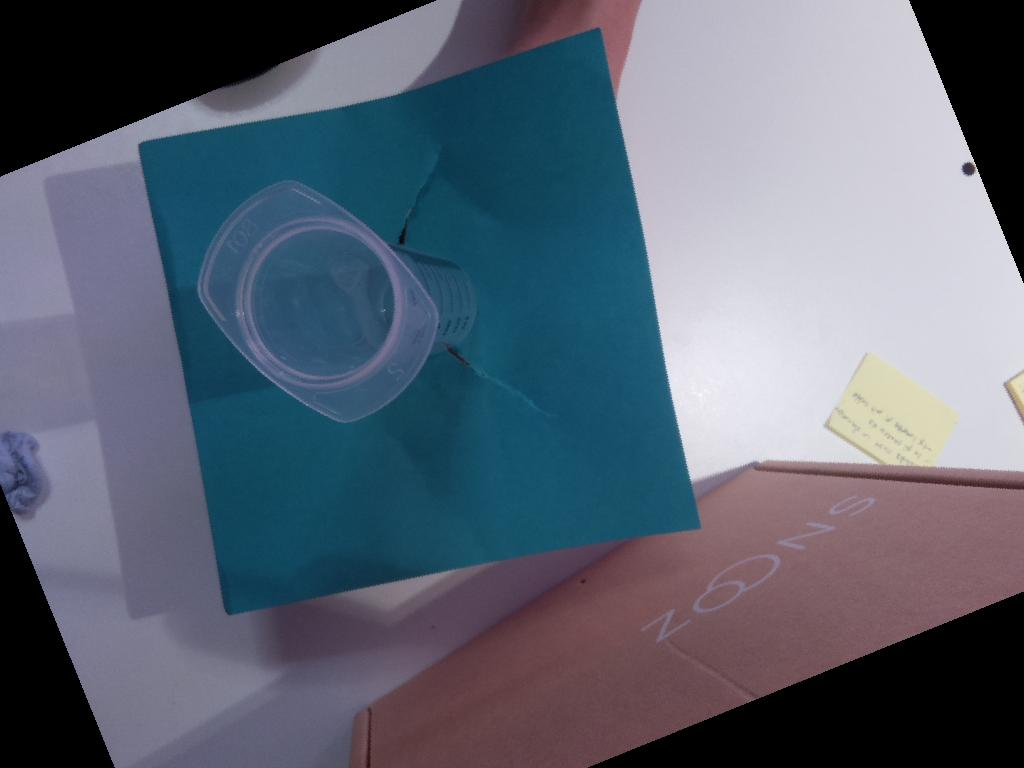clean: (193, 177, 442, 425)
